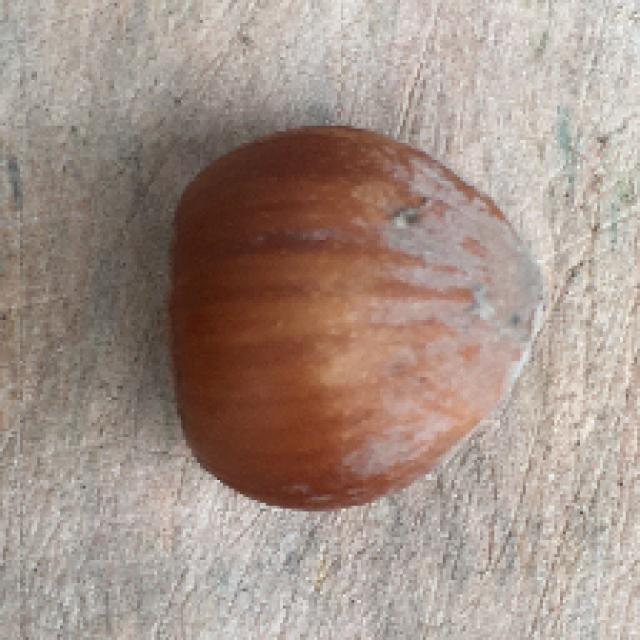qualityHazelnut: (156, 114, 556, 518)
